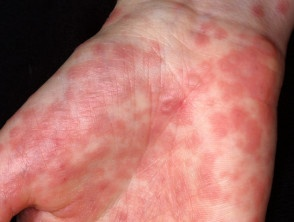SJS-TEN: (0, 6, 284, 221)
